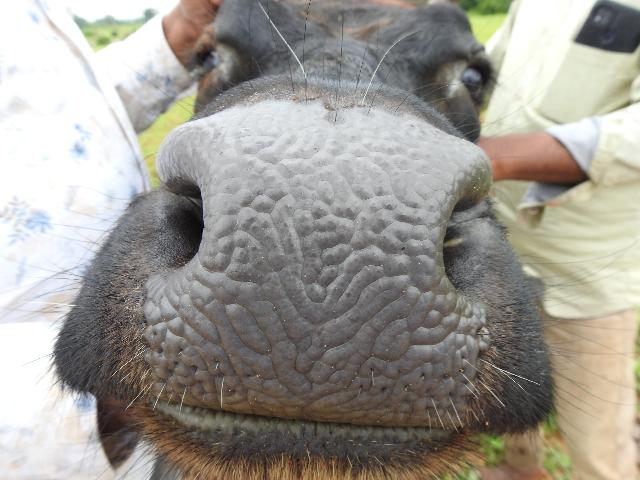Muzzle: (196, 126, 446, 410)
